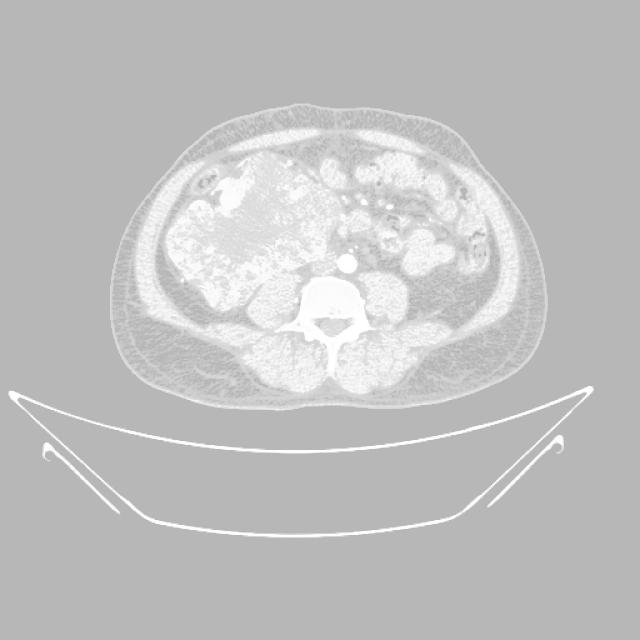TUMOR: (195, 155, 463, 244)
